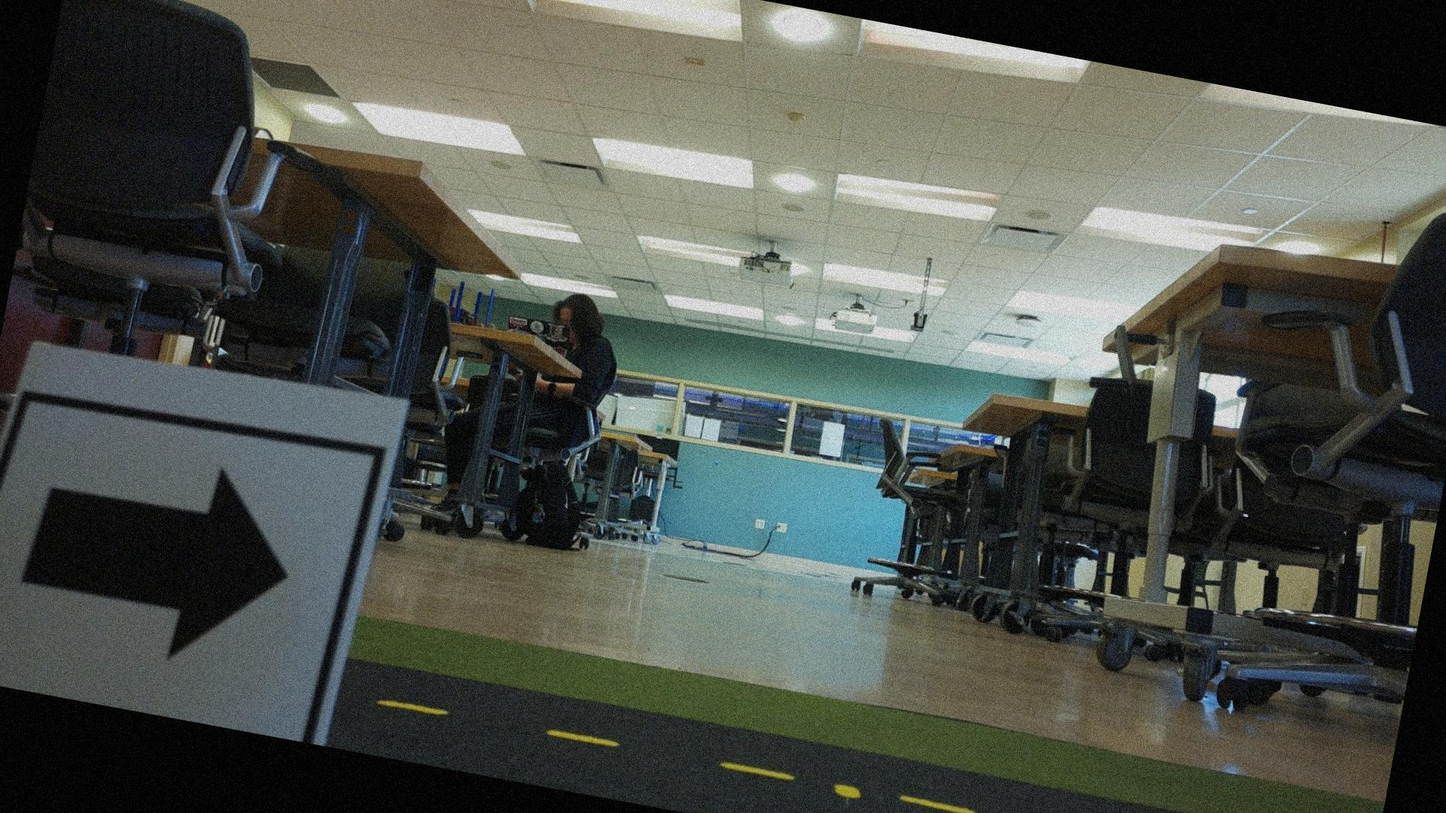turnright: (0, 389, 373, 745)
yellowline: (376, 690, 1371, 812), (816, 777, 888, 812)
